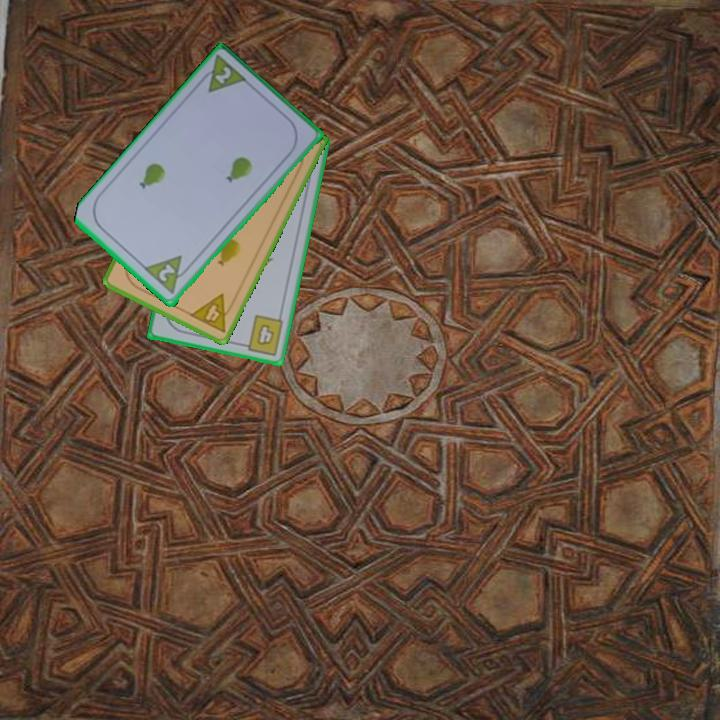2p: (141, 252, 195, 298), (194, 52, 250, 96)
4b: (237, 311, 286, 358)
4p: (186, 290, 239, 336)
